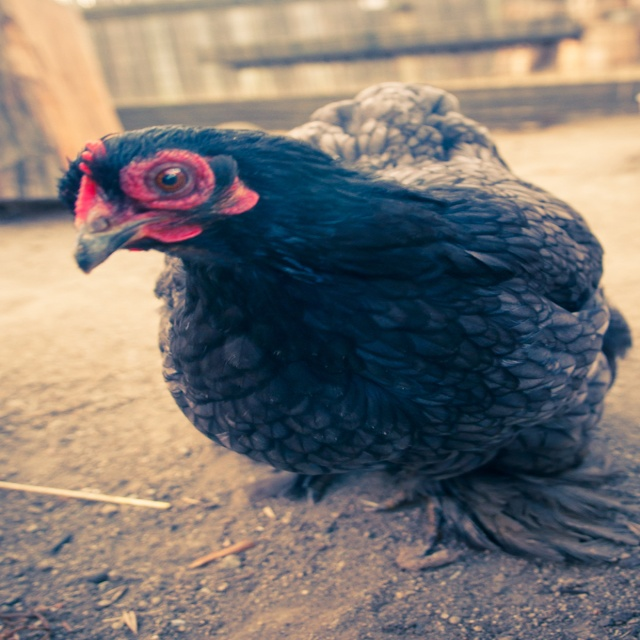Chicken: (66, 79, 635, 570)
